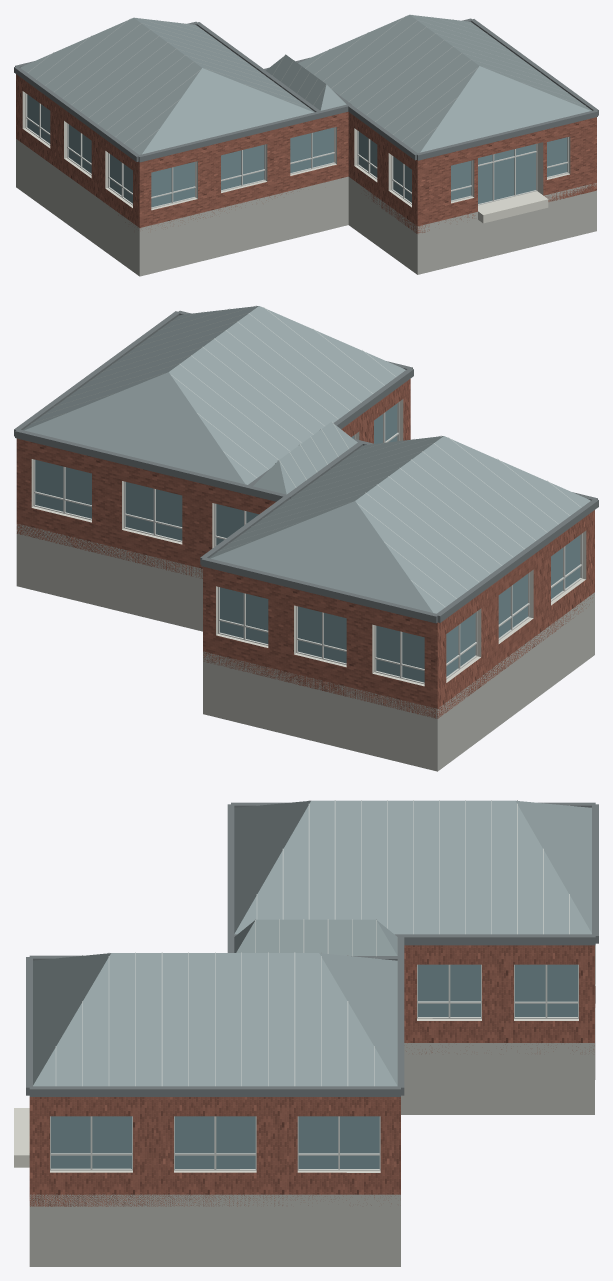
3 renders of one model, top to bottom at view 1: azimuth 30°, elevation 25°; view 2: azimuth 150°, elevation 25°; view 3: azimuth 270°, elevation 25°, orthographic. The views are drawn at different scales.
Visible parts, largest first — view 1: maeji-1-lobby__classroomFacades (×2), maeji-1-lobby__originalFootprintFoundation, maeji-1-lobby__frontLobbyHip, maeji-1-lobby__rearLobbyHip, maeji-1-lobby__rearLobbyHipFascia, maeji-1-lobby__windowAndDoorFrames, maeji-1-lobby__frontLobbyHipFascia, maeji-1-lobby__recessedOpeningReveals, maeji-1-lobby__connectingRoof, maeji-1-lobby__entranceThreshold_0, maeji-1-lobby__rearLobbyHipSeams, maeji-1-lobby__frontLobbyHipSeams (+1 smaller); view 2: maeji-1-lobby__classroomFacades (×2), maeji-1-lobby__frontLobbyHip, maeji-1-lobby__rearLobbyHip, maeji-1-lobby__originalFootprintFoundation, maeji-1-lobby__rearLobbyHipFascia, maeji-1-lobby__frontLobbyHipFascia, maeji-1-lobby__windowAndDoorFrames, maeji-1-lobby__connectingRoof, maeji-1-lobby__recessedOpeningReveals, maeji-1-lobby__rearLobbyHipSeams, maeji-1-lobby__frontLobbyHipSeams, maeji-1-lobby__connectingRoofFascia; view 3: maeji-1-lobby__classroomFacades (×2), maeji-1-lobby__frontLobbyHip, maeji-1-lobby__rearLobbyHip, maeji-1-lobby__originalFootprintFoundation, maeji-1-lobby__frontLobbyHipFascia, maeji-1-lobby__connectingRoof, maeji-1-lobby__rearLobbyHipFascia, maeji-1-lobby__windowAndDoorFrames, maeji-1-lobby__frontLobbyHipSeams, maeji-1-lobby__rearLobbyHipSeams, maeji-1-lobby__recessedOpeningReveals, maeji-1-lobby__entranceThreshold_0.
Boxes of the visible parts, left/top/right/bottom form: maeji-1-lobby__classroomFacades (×2): left=16, top=74, right=596, bottom=233; maeji-1-lobby__originalFootprintFoundation: left=16, top=139, right=596, bottom=276; maeji-1-lobby__frontLobbyHip: left=298, top=14, right=591, bottom=152; maeji-1-lobby__rearLobbyHip: left=20, top=17, right=314, bottom=154; maeji-1-lobby__rearLobbyHipFascia: left=14, top=21, right=320, bottom=162; maeji-1-lobby__windowAndDoorFrames: left=25, top=93, right=568, bottom=208; maeji-1-lobby__frontLobbyHipFascia: left=295, top=18, right=598, bottom=160; maeji-1-lobby__recessedOpeningReveals: left=22, top=91, right=570, bottom=210; maeji-1-lobby__connectingRoof: left=266, top=55, right=346, bottom=110; maeji-1-lobby__entranceThreshold_0: left=478, top=194, right=548, bottom=223; maeji-1-lobby__rearLobbyHipSeams: left=28, top=18, right=294, bottom=149; maeji-1-lobby__frontLobbyHipSeams: left=305, top=16, right=585, bottom=147; maeji-1-lobby__classroomFacades (×2): left=16, top=379, right=594, bottom=718; maeji-1-lobby__frontLobbyHip: left=23, top=306, right=405, bottom=484; maeji-1-lobby__rearLobbyHip: left=209, top=436, right=590, bottom=613; maeji-1-lobby__originalFootprintFoundation: left=16, top=524, right=594, bottom=771; maeji-1-lobby__rearLobbyHipFascia: left=200, top=441, right=598, bottom=623; maeji-1-lobby__frontLobbyHipFascia: left=14, top=310, right=413, bottom=494; maeji-1-lobby__windowAndDoorFrames: left=33, top=402, right=582, bottom=684; maeji-1-lobby__connectingRoof: left=253, top=422, right=357, bottom=494; maeji-1-lobby__recessedOpeningReveals: left=31, top=399, right=586, bottom=686; maeji-1-lobby__rearLobbyHipSeams: left=218, top=435, right=581, bottom=607; maeji-1-lobby__frontLobbyHipSeams: left=31, top=305, right=395, bottom=477; maeji-1-lobby__connectingRoofFascia: left=247, top=438, right=362, bottom=501; maeji-1-lobby__classroomFacades (×2): left=29, top=945, right=595, bottom=1206; maeji-1-lobby__frontLobbyHip: left=33, top=953, right=397, bottom=1086; maeji-1-lobby__rearLobbyHip: left=234, top=800, right=591, bottom=934; maeji-1-lobby__originalFootprintFoundation: left=29, top=945, right=595, bottom=1266; maeji-1-lobby__frontLobbyHipFascia: left=26, top=955, right=404, bottom=1096; maeji-1-lobby__connectingRoof: left=234, top=919, right=397, bottom=955; maeji-1-lobby__rearLobbyHipFascia: left=227, top=802, right=598, bottom=945; maeji-1-lobby__windowAndDoorFrames: left=50, top=964, right=578, bottom=1170; maeji-1-lobby__frontLobbyHipSeams: left=55, top=952, right=374, bottom=1086; maeji-1-lobby__rearLobbyHipSeams: left=256, top=800, right=569, bottom=934; maeji-1-lobby__recessedOpeningReveals: left=50, top=945, right=595, bottom=1172; maeji-1-lobby__entranceThreshold_0: left=14, top=1108, right=29, bottom=1167.
Size of the model in its own units: 21.79 by 8.84 by 18.81.
8 materials, 1 textured.
